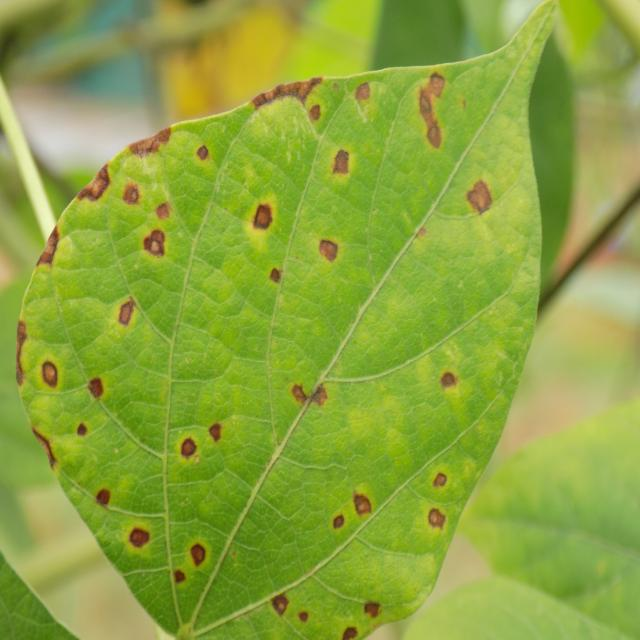Dolicos bean_cercospora leaf spot: (18, 15, 538, 640)
